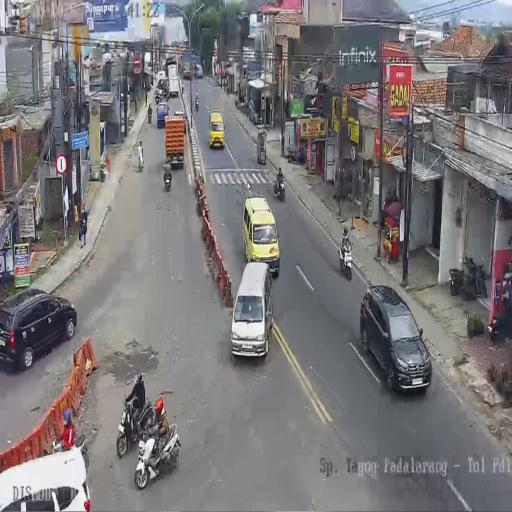car: (360, 285, 430, 392), (0, 288, 78, 369), (0, 445, 93, 511), (231, 260, 274, 356), (242, 196, 280, 277), (209, 110, 225, 148), (156, 102, 168, 128), (118, 82, 131, 102), (156, 70, 167, 86), (194, 64, 203, 78)
motorcycle: (134, 416, 180, 489), (450, 255, 486, 300), (338, 234, 353, 280), (287, 144, 304, 164), (273, 175, 285, 200), (194, 93, 200, 111)
truck: (164, 114, 186, 169), (167, 62, 180, 98), (181, 49, 195, 79), (143, 51, 154, 89)
